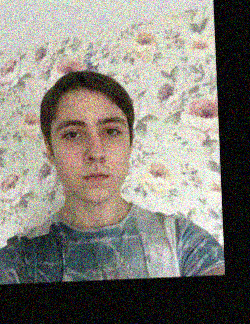without_mask: (50, 114, 131, 205)
